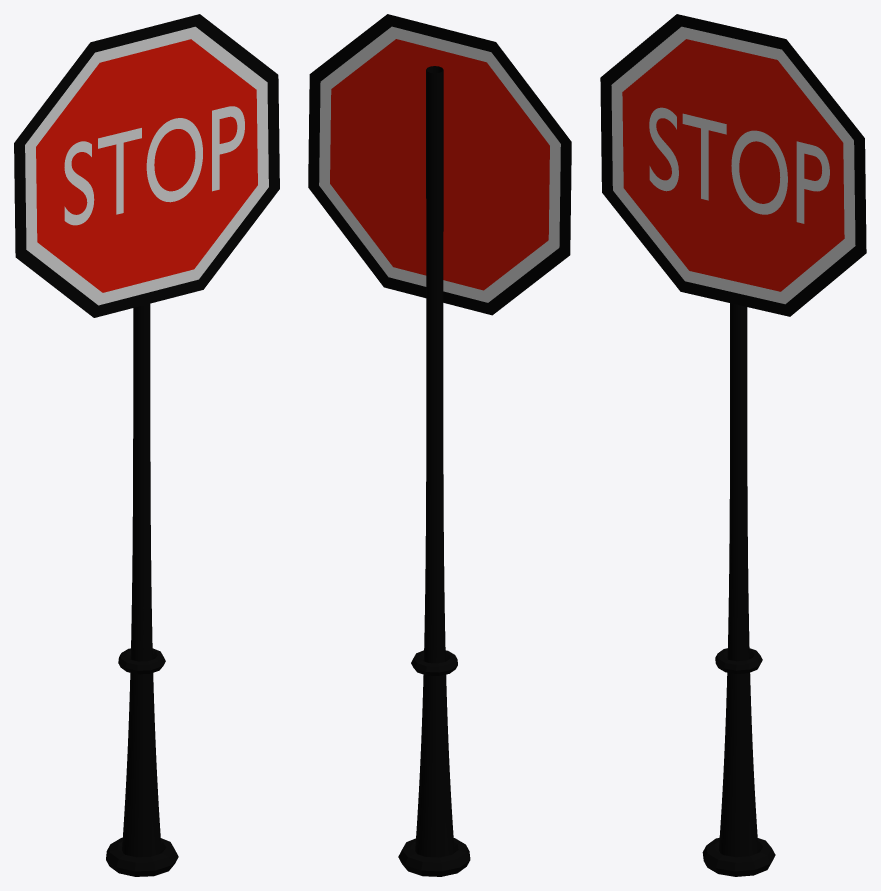
The model's file is STOP SIGN.fbx.
3 views of the same model, side by side, from view 1: azimuth 30°, elevation 25°; view 2: azimuth 150°, elevation 25°; view 3: azimuth 330°, elevation 25° (orthographic).
Parts seen in each view (by area): view 1: Circle, NurbsPath, STOP, Torus.001, Torus; view 2: Circle, NurbsPath, Torus.001, Torus; view 3: Circle, NurbsPath, STOP, Torus.001, Torus.
Part boxes in pixels (x1,y1,x2,y2): Circle: (14,14,279,317); NurbsPath: (122,303,161,857); STOP: (64,106,244,225); Torus.001: (106,837,178,876); Torus: (118,648,165,674); Circle: (308,14,571,315); NurbsPath: (415,66,454,857); Torus.001: (398,838,470,876); Torus: (411,650,457,675); Circle: (600,14,866,316); NurbsPath: (719,303,758,857); STOP: (649,107,829,223); Torus.001: (702,837,775,876); Torus: (715,648,762,674).
Size of the model in its own units: 140 by 422 by 33.3.
